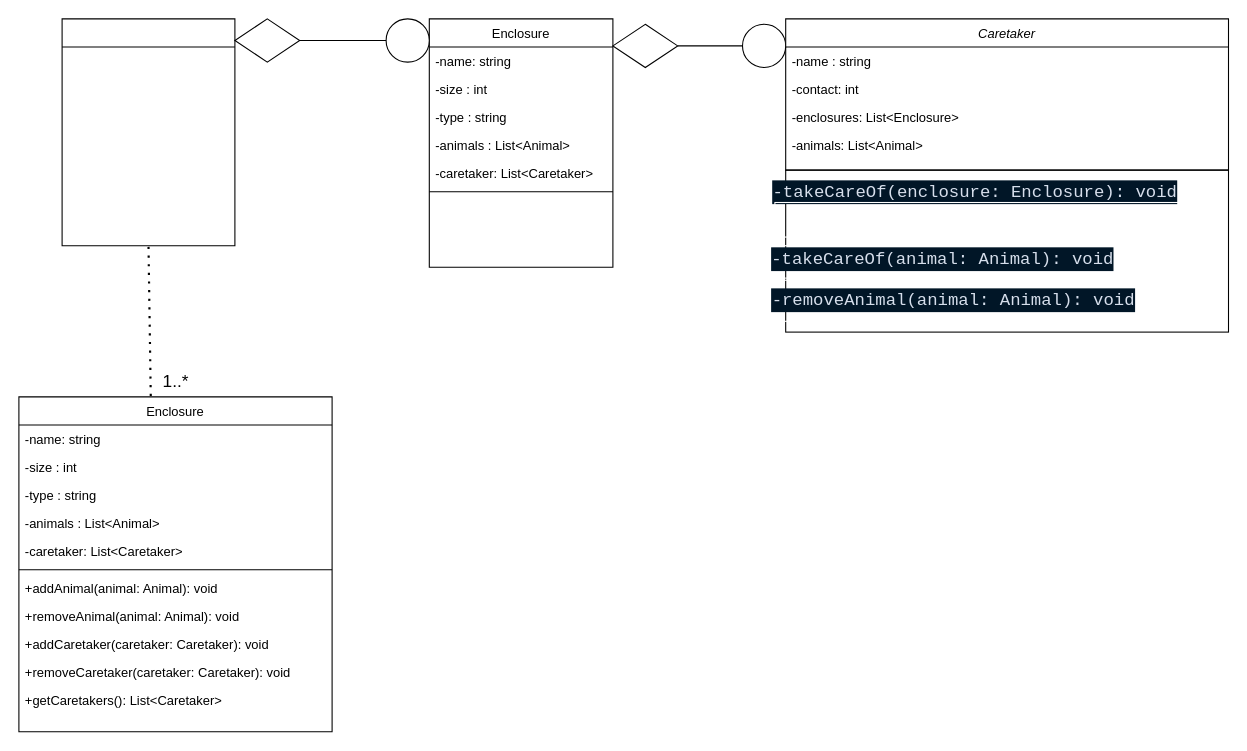
Image size: 1247x751. Some labels were removed from this diagram. The centre of each missing label's shape, as x and y in pixels:
"-removeEnclosure(enclosure: Enclosure): void" belongs at (996,223).
"Zoo" belongs at (148,132).
